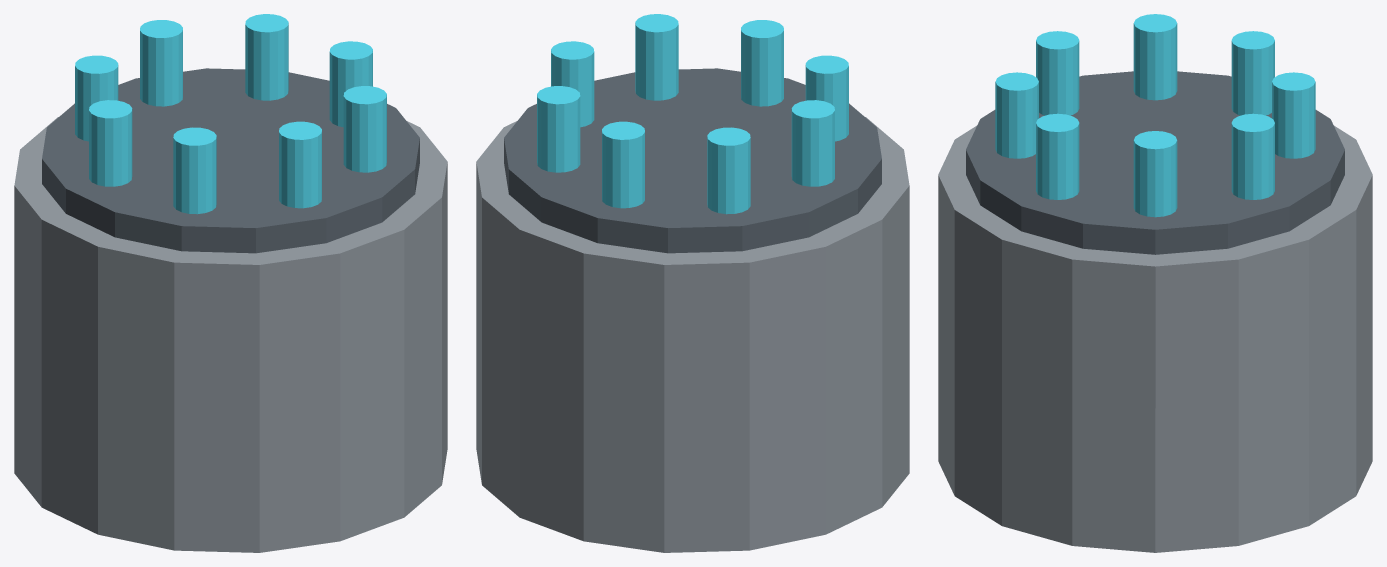
Rendered from 3_Vent.fbx.
3 views of the same model, side by side, from view 1: azimuth 30°, elevation 25°; view 2: azimuth 150°, elevation 25°; view 3: azimuth 270°, elevation 25° (orthographic).
Parts seen in each view (by area): view 1: Body, Rotor; view 2: Body, Rotor; view 3: Body, Rotor.
Boxes of the visible parts, left/top/right/bottom form: Body: left=14, top=117, right=447, bottom=552; Rotor: left=42, top=14, right=419, bottom=253; Body: left=476, top=117, right=909, bottom=552; Rotor: left=504, top=14, right=881, bottom=253; Body: left=938, top=125, right=1372, bottom=552; Rotor: left=966, top=14, right=1344, bottom=254.
Size of the model in its own units: 1.1 by 1.06 by 1.1.
